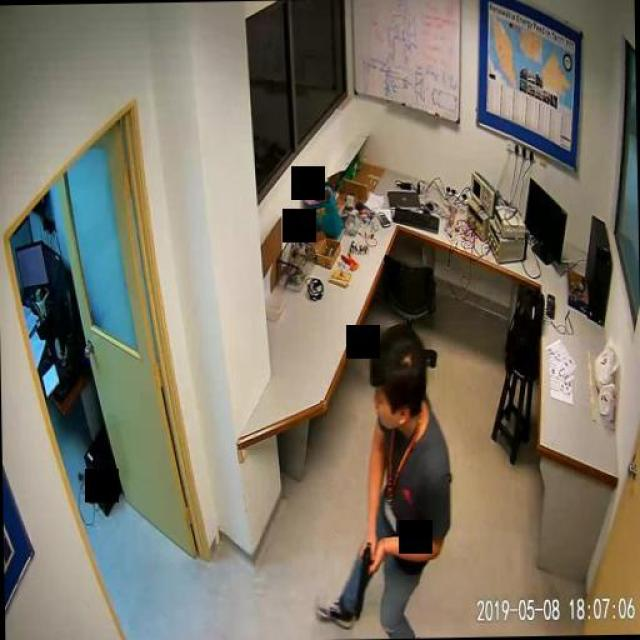gun: (350, 540, 370, 621)
